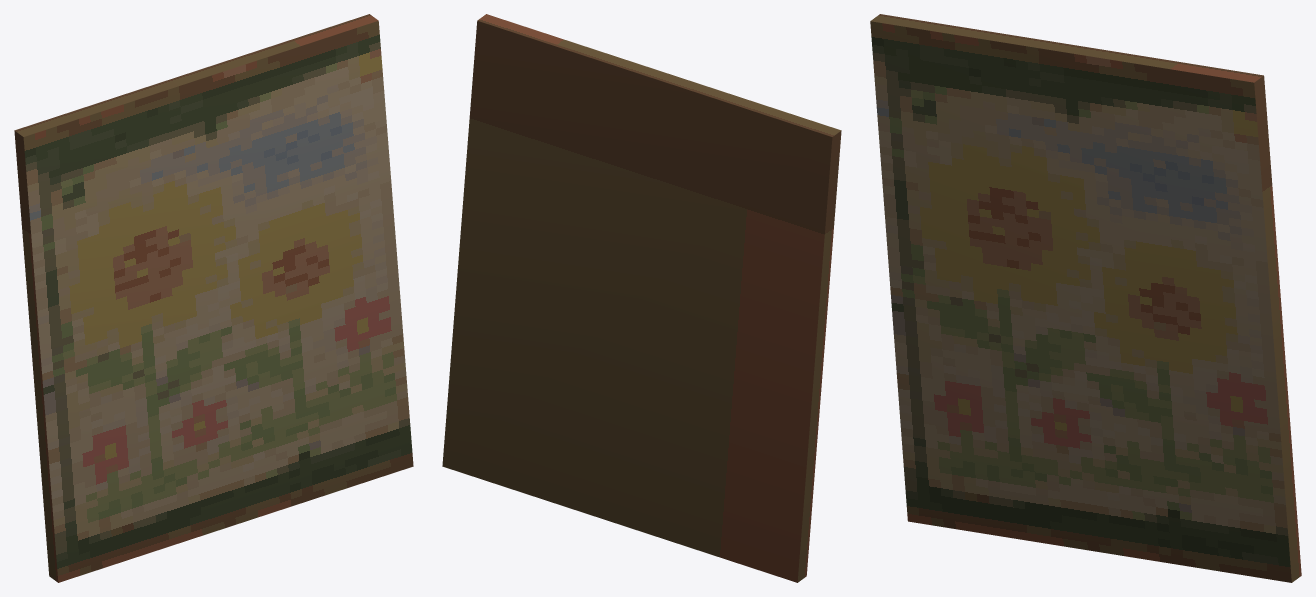
Rendered from prop_drawing-2.glb.
3 renders of one model, left to right at view 1: azimuth 30°, elevation 25°; view 2: azimuth 150°, elevation 25°; view 3: azimuth 330°, elevation 25°, orthographic. The views are drawn at different scales.
Parts seen in each view (by area): view 1: prop_drawing-2; view 2: prop_drawing-2; view 3: prop_drawing-2.
Part boxes in pixels (x1=…): prop_drawing-2: x1=14, y1=14, x2=413, y2=582; prop_drawing-2: x1=442, y1=14, x2=841, y2=582; prop_drawing-2: x1=870, y1=14, x2=1301, y2=582.
Bounding box in the file's own units: 0.4925 × 0.5842 × 0.02.
1 material, 1 textured.
